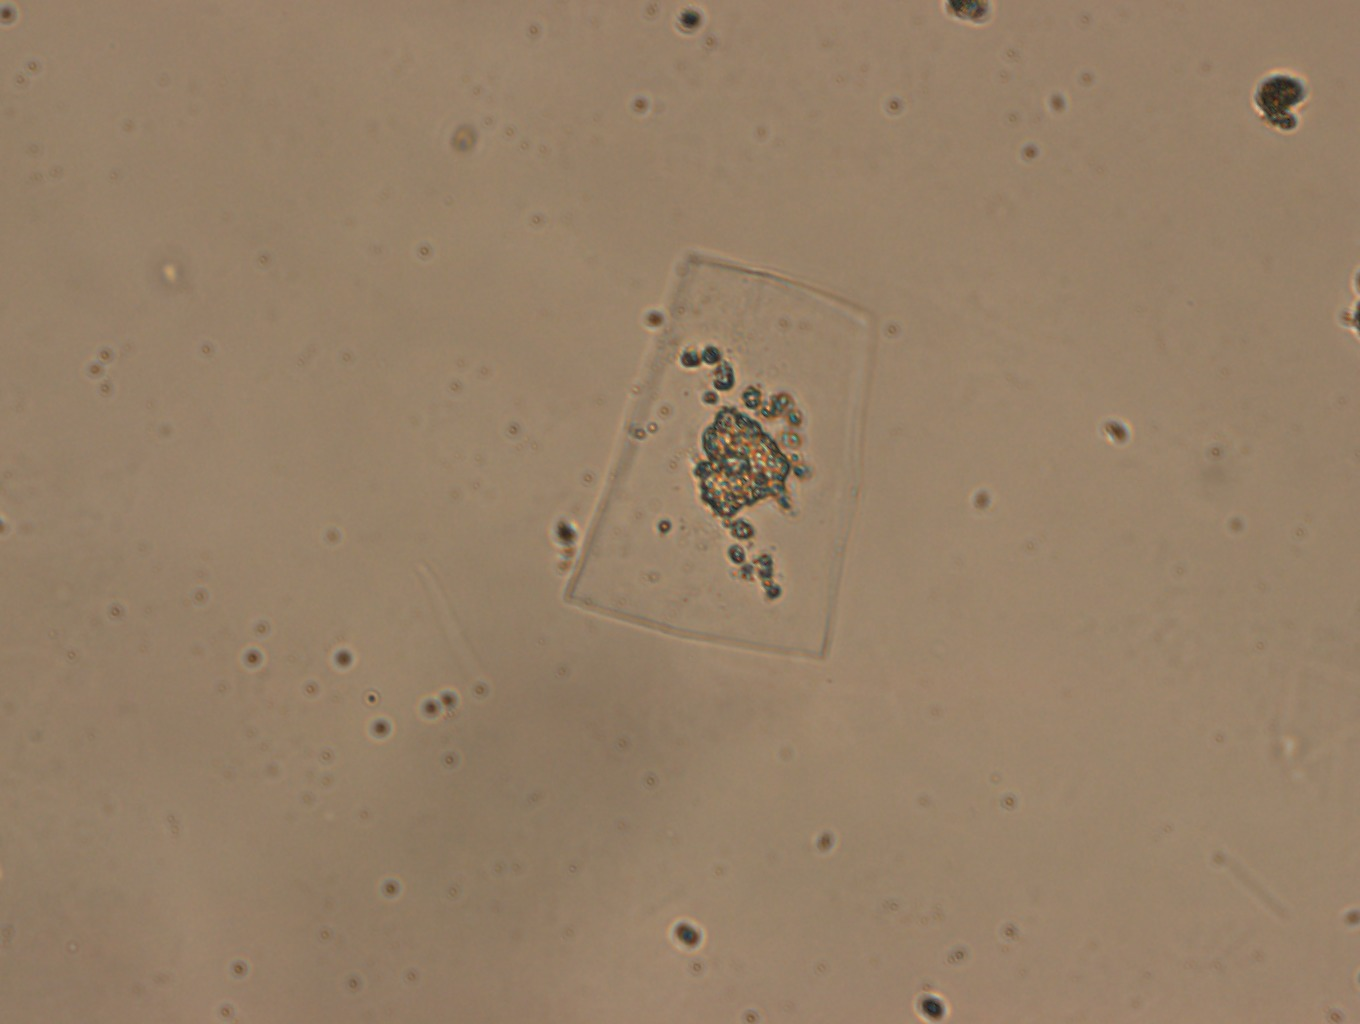helicotheca: (559, 252, 874, 660)
